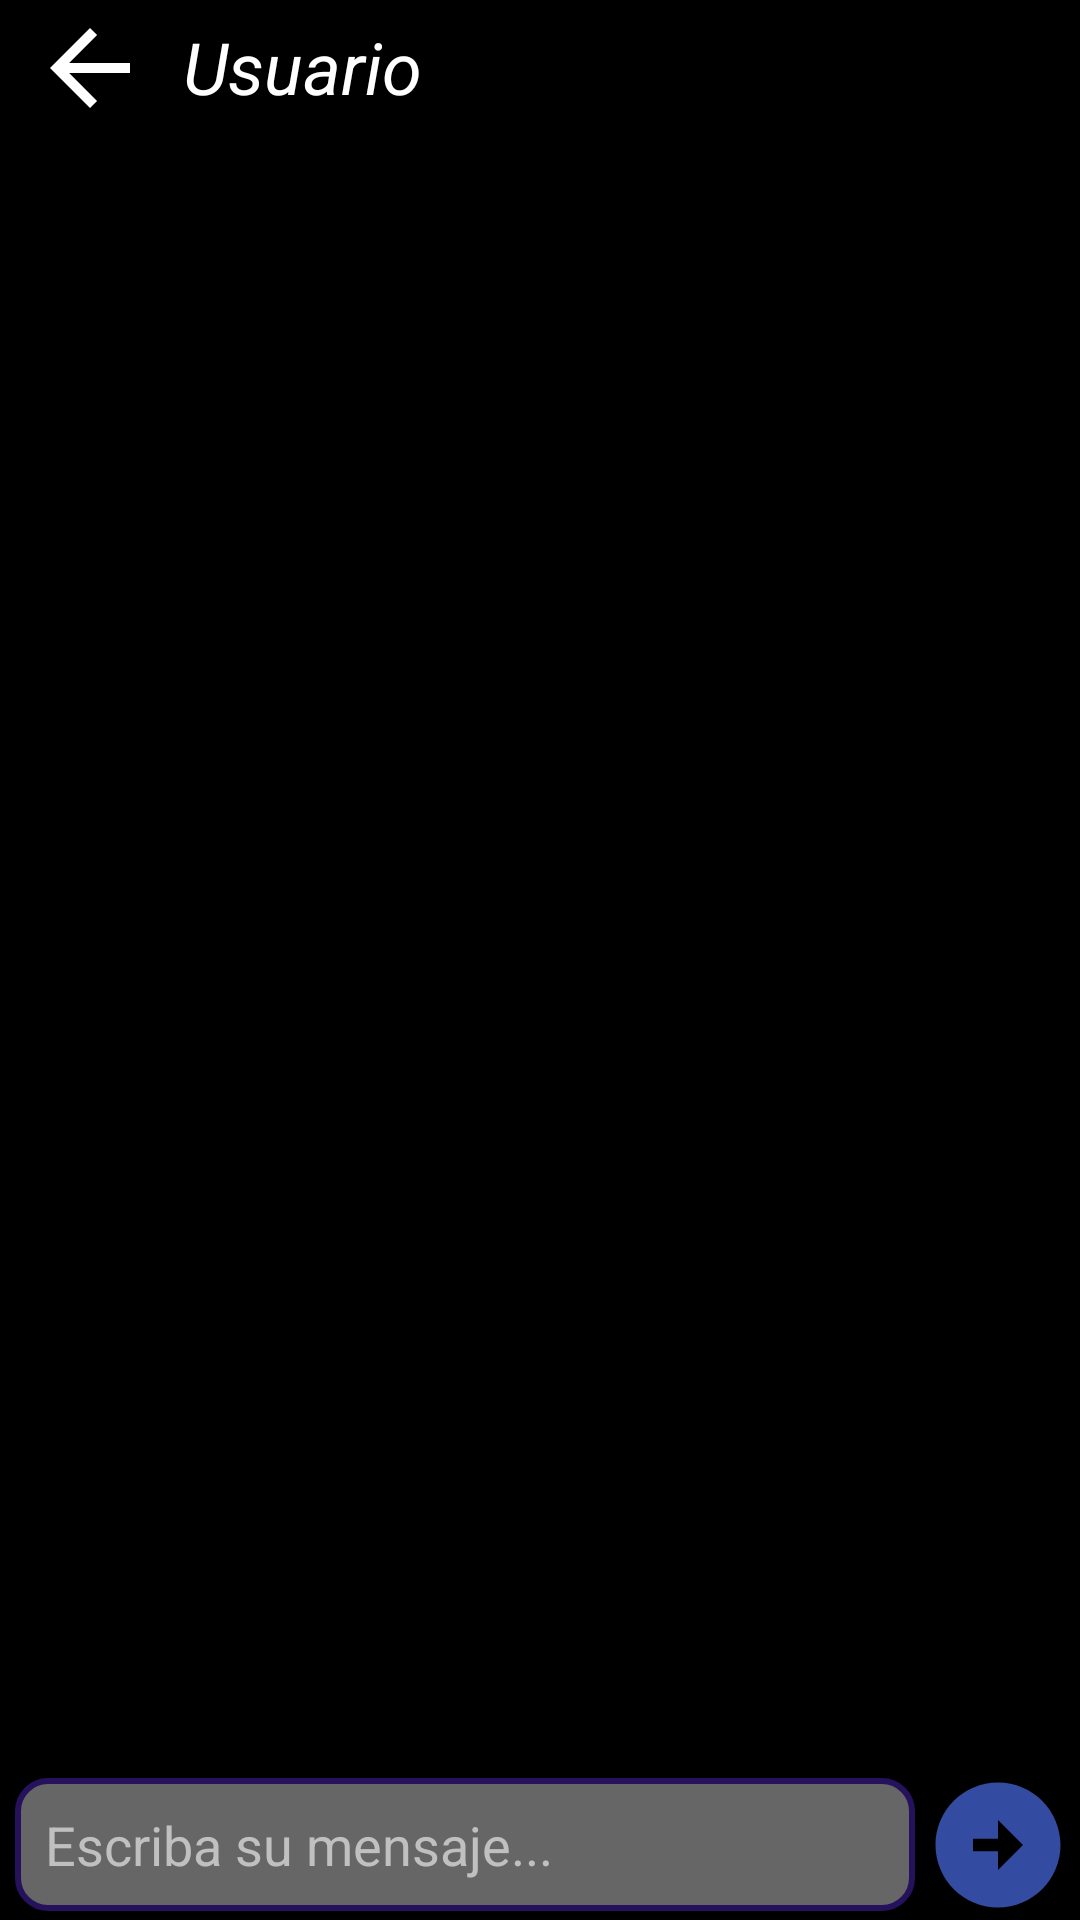

Where to tap for icons on this 1080px x 1920px app screen, as (x,y):
send: (998,1845)
